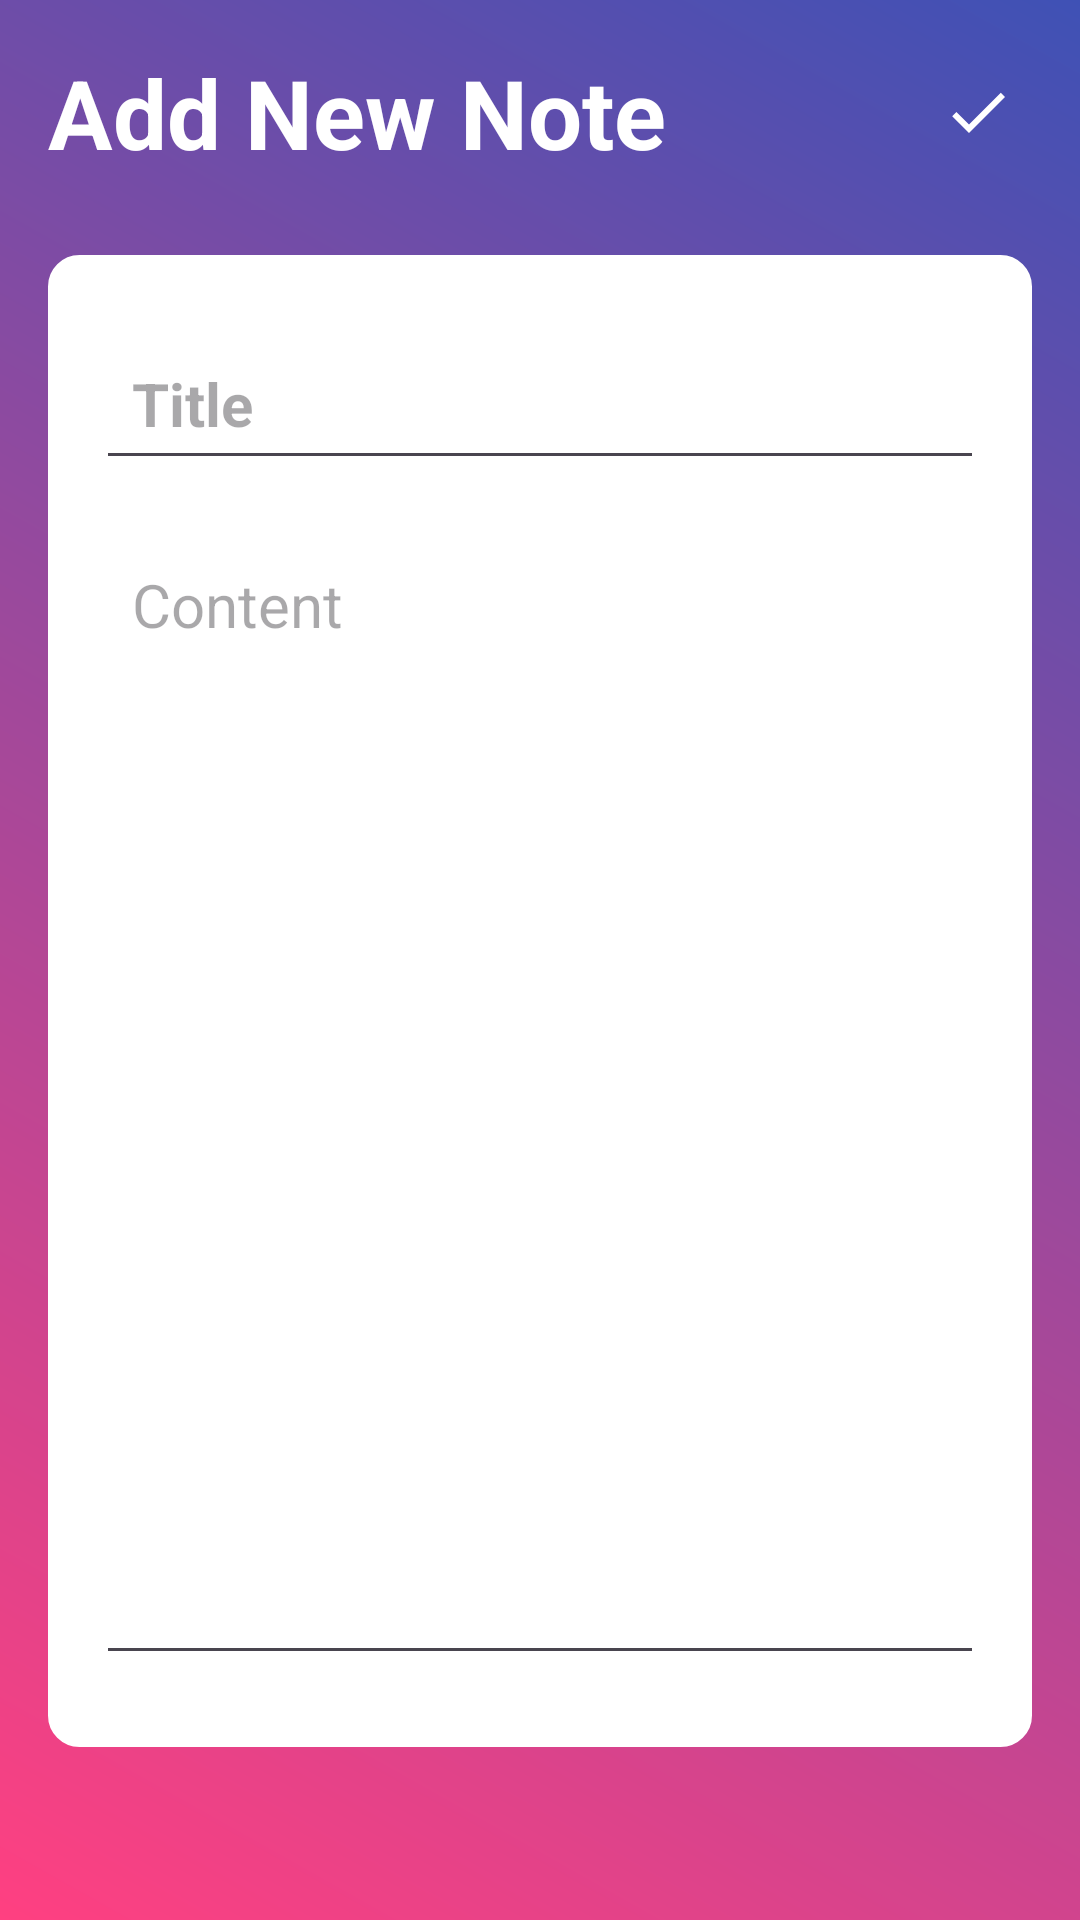

Screen size 1080*1920. Icon name, then its box in pixels as (x1, y1, x2, y2):
done: (952, 93, 1005, 133)
